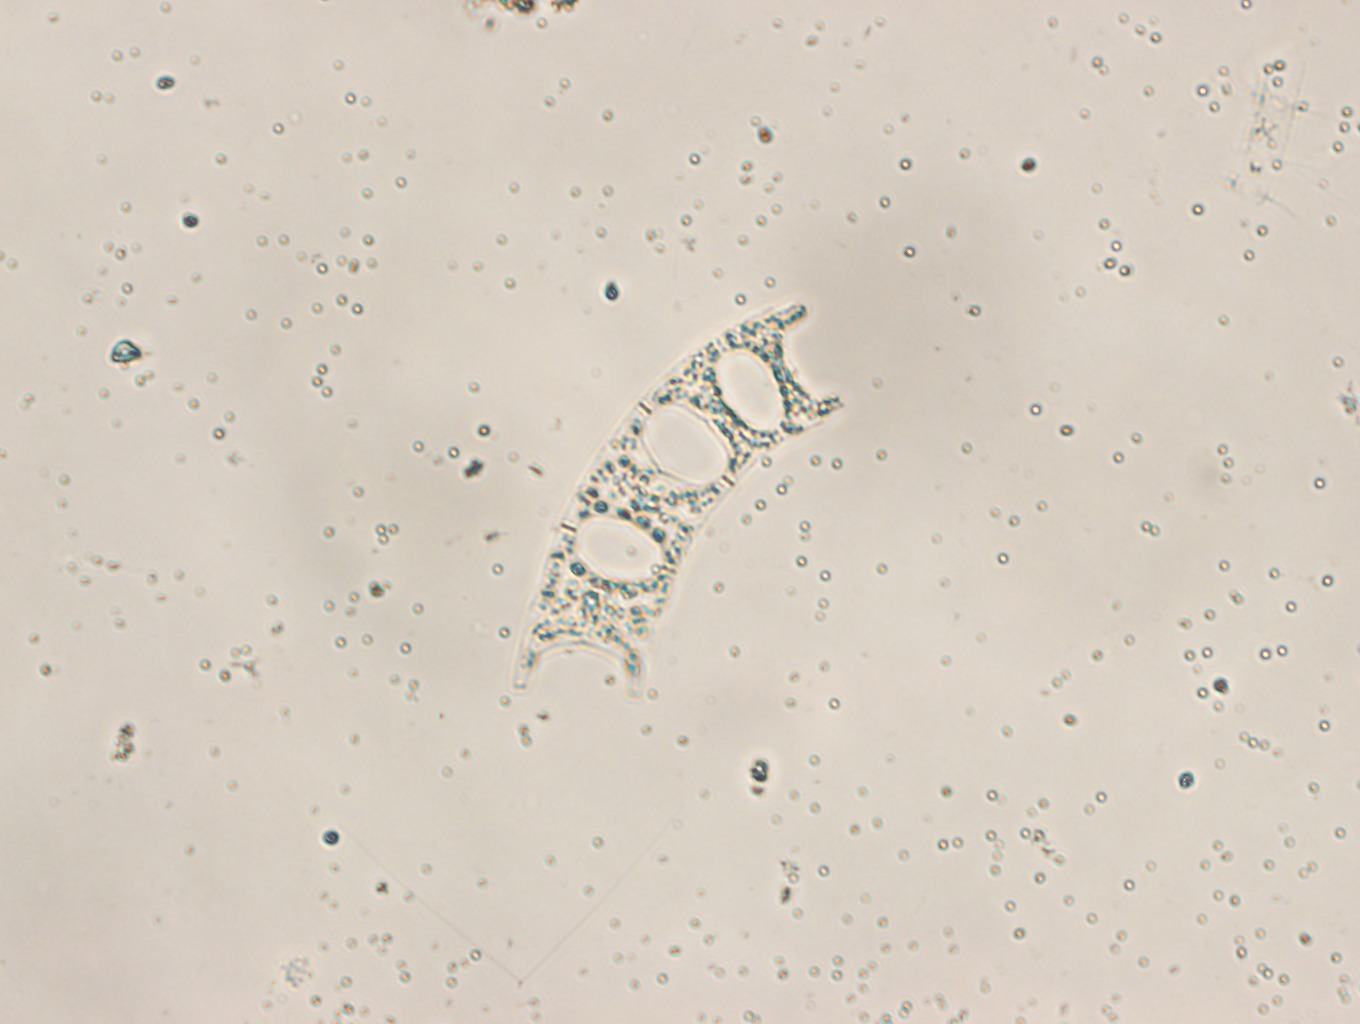eucampia: (511, 300, 842, 696)
